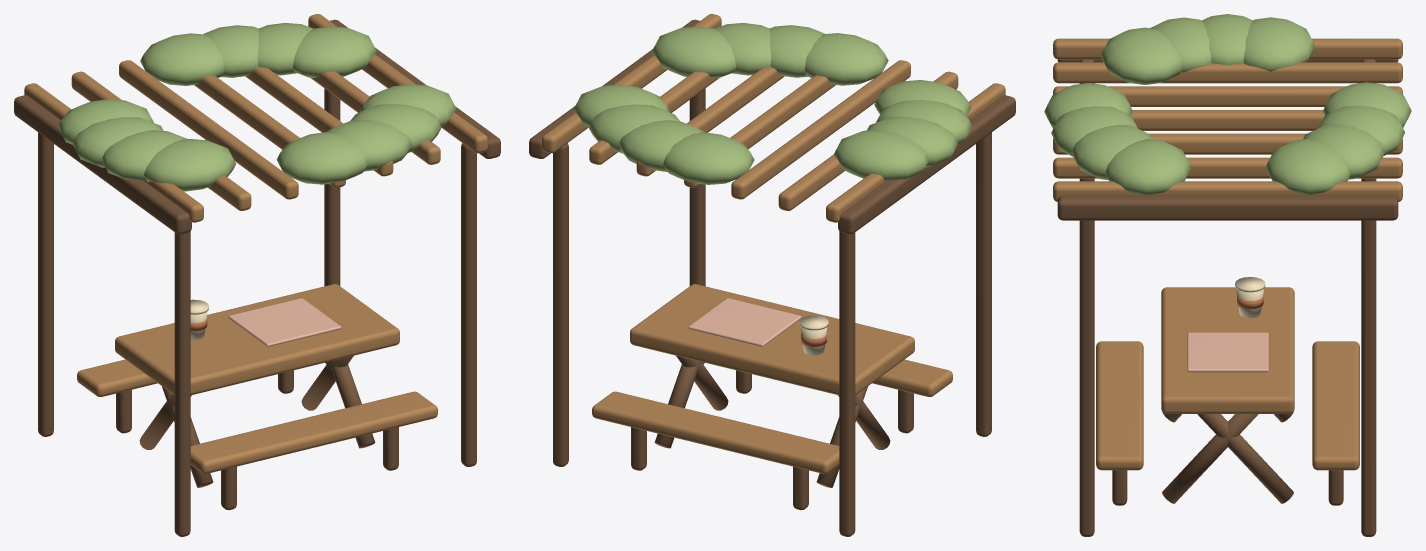
File: picnic.glb
3 views of the same model, side by side, from view 1: azimuth 30°, elevation 25°; view 2: azimuth 150°, elevation 25°; view 3: azimuth 270°, elevation 25° (orthographic). The views are drawn at different scales.
Visible parts, largest first — view 1: picnic_World_Mesh, Coffee cup.011_Mesh; view 2: picnic_World_Mesh, Coffee cup.011_Mesh; view 3: picnic_World_Mesh, Coffee cup.011_Mesh.
Boxes of the visible parts, x1=… form: picnic_World_Mesh: x1=14, y1=14, x2=500, y2=536; Coffee cup.011_Mesh: x1=190, y1=299, x2=208, y2=339; picnic_World_Mesh: x1=529, y1=14, x2=1015, y2=536; Coffee cup.011_Mesh: x1=799, y1=315, x2=828, y2=355; picnic_World_Mesh: x1=1044, y1=14, x2=1411, y2=536; Coffee cup.011_Mesh: x1=1235, y1=277, x2=1265, y2=318.
Size of the model in its own units: 2.75 by 2.76 by 2.48.
